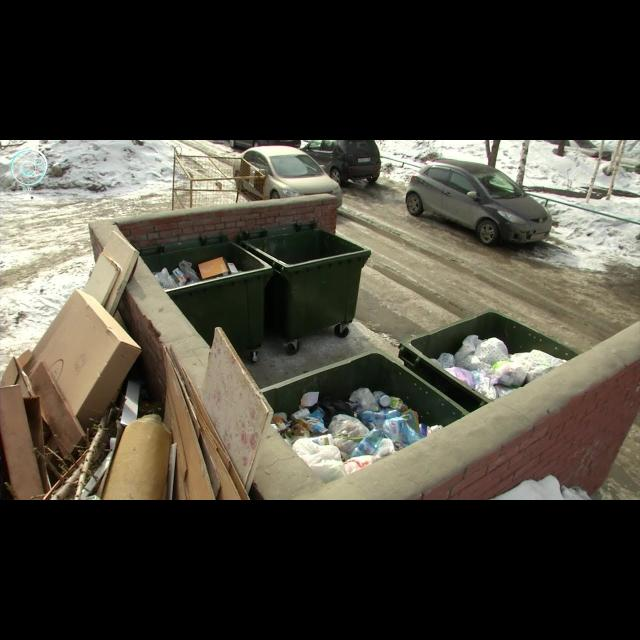Trash_Can_Empty: (237, 219, 371, 341)
Trash_Can_Full: (398, 310, 579, 413), (138, 232, 272, 353)
